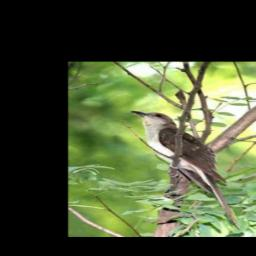Cuckoo: (131, 110, 241, 229)
